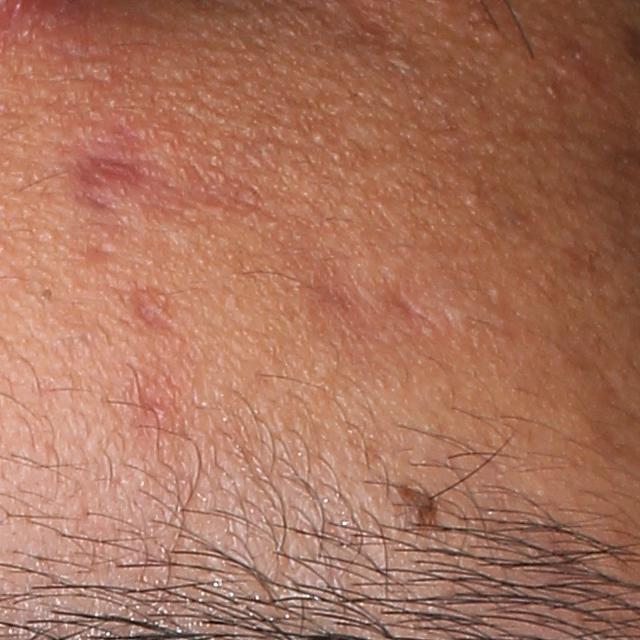atrophic_scar: (55, 118, 280, 231), (300, 252, 472, 341), (125, 364, 193, 450), (119, 283, 176, 341)
comedo: (312, 129, 329, 148)
nevus: (398, 483, 450, 532)
